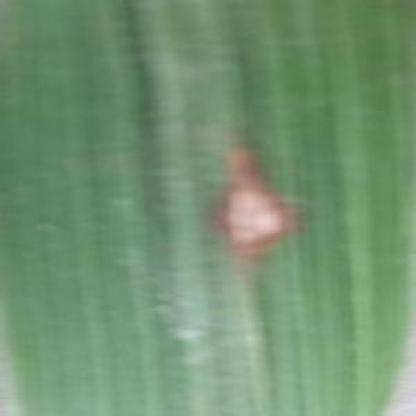Rice blast: (204, 145, 308, 274)
